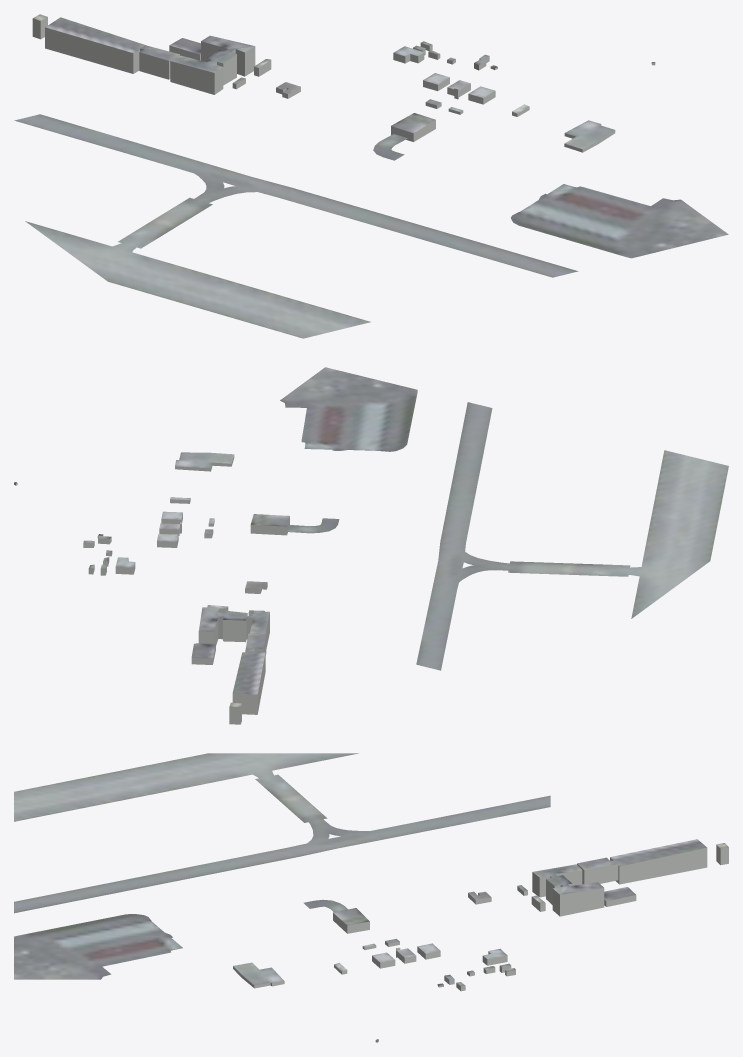
File: LFSB_0_1.glb
The picture shows the model from 3 angles, top to bottom: view 1: azimuth 30°, elevation 25°; view 2: azimuth 150°, elevation 25°; view 3: azimuth 270°, elevation 25°; orthographic projection. The views are drawn at different scales.
Visible parts, largest first — view 1: pavement_LFSB_pavement_5212_2545, building_BATIMENT0000000048076704, building_BATIMENT0000000048076712, building_BATIMENT0000000048076695, building_BATIMENT0000002204046814, building_BATIMENT0000000048076708; view 2: pavement_LFSB_pavement_5212_2545, building_BATIMENT0000000048076704, building_BATIMENT0000000048076712, building_BATIMENT0000000048076695, building_BATIMENT0000000048076708; view 3: pavement_LFSB_pavement_5212_2545, building_BATIMENT0000000048076712, building_BATIMENT0000000048076704, building_BATIMENT0000002204046814, building_BATIMENT0000000048076695, building_BATIMENT0000000048076708, building_BATIMENT0000002204046630.
Part boxes in pixels (x1=…): pavement_LFSB_pavement_5212_2545: x1=14, y1=114, x2=728, y2=338; building_BATIMENT0000000048076704: x1=170, y1=35, x2=255, y2=94; building_BATIMENT0000000048076712: x1=45, y1=17, x2=146, y2=73; building_BATIMENT0000000048076695: x1=564, y1=120, x2=615, y2=152; building_BATIMENT0000002204046814: x1=139, y1=45, x2=179, y2=79; building_BATIMENT0000000048076708: x1=391, y1=113, x2=435, y2=141; pavement_LFSB_pavement_5212_2545: x1=280, y1=367, x2=728, y2=670; building_BATIMENT0000000048076704: x1=198, y1=607, x2=269, y2=648; building_BATIMENT0000000048076712: x1=232, y1=652, x2=265, y2=714; building_BATIMENT0000000048076695: x1=175, y1=452, x2=234, y2=471; building_BATIMENT0000000048076708: x1=250, y1=514, x2=289, y2=535; pavement_LFSB_pavement_5212_2545: x1=14, y1=753, x2=550, y2=979; building_BATIMENT0000000048076712: x1=610, y1=839, x2=707, y2=884; building_BATIMENT0000000048076704: x1=532, y1=864, x2=604, y2=916; building_BATIMENT0000002204046814: x1=577, y1=857, x2=618, y2=884; building_BATIMENT0000000048076695: x1=233, y1=962, x2=284, y2=988; building_BATIMENT0000000048076708: x1=333, y1=908, x2=369, y2=933; building_BATIMENT0000002204046630: x1=604, y1=887, x2=636, y2=906.
Bounding box in the file's own units: 624 × 23.8 × 666.
3 materials, 2 textured.
